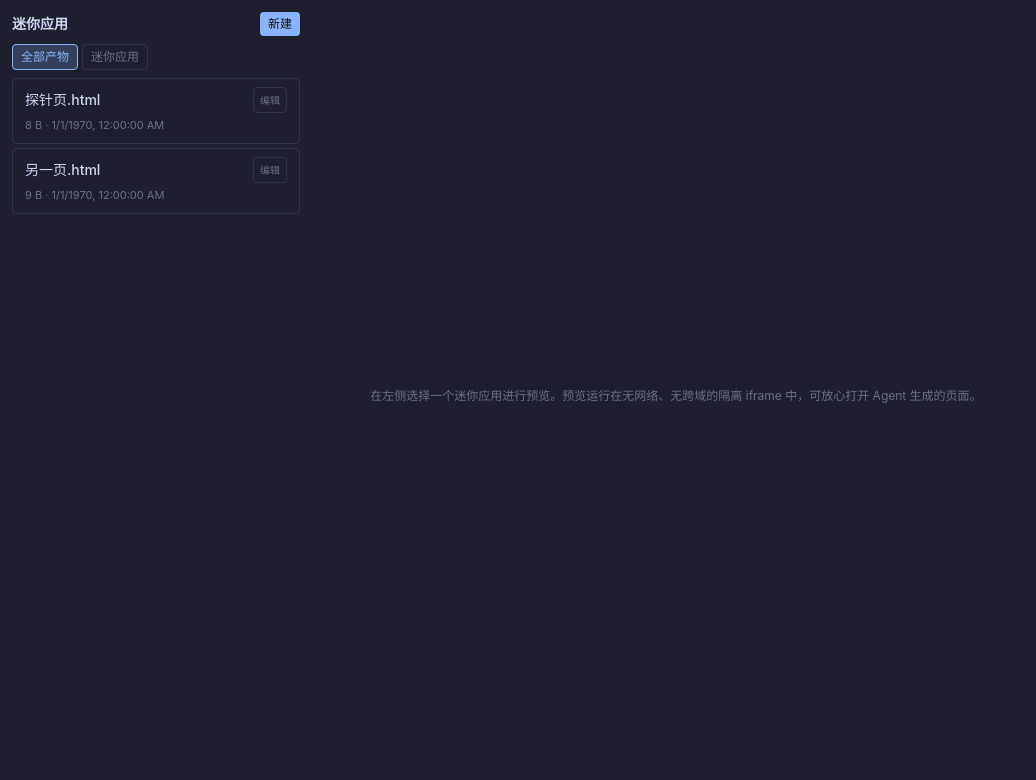
it: ① 沙箱预览那一发：三种到货要分得开 › 回 {ok:false} ⇒ 不崩（屏上仍有内容）、原因上屏、预览区回到空态
The width and height of the screenshot is (1036, 780).
What coordinates should you click on to do the following:
click the button "探针页.html"
I would click on:
 (135, 100)
Its box is x1=25 y1=90 x2=245 y2=110.
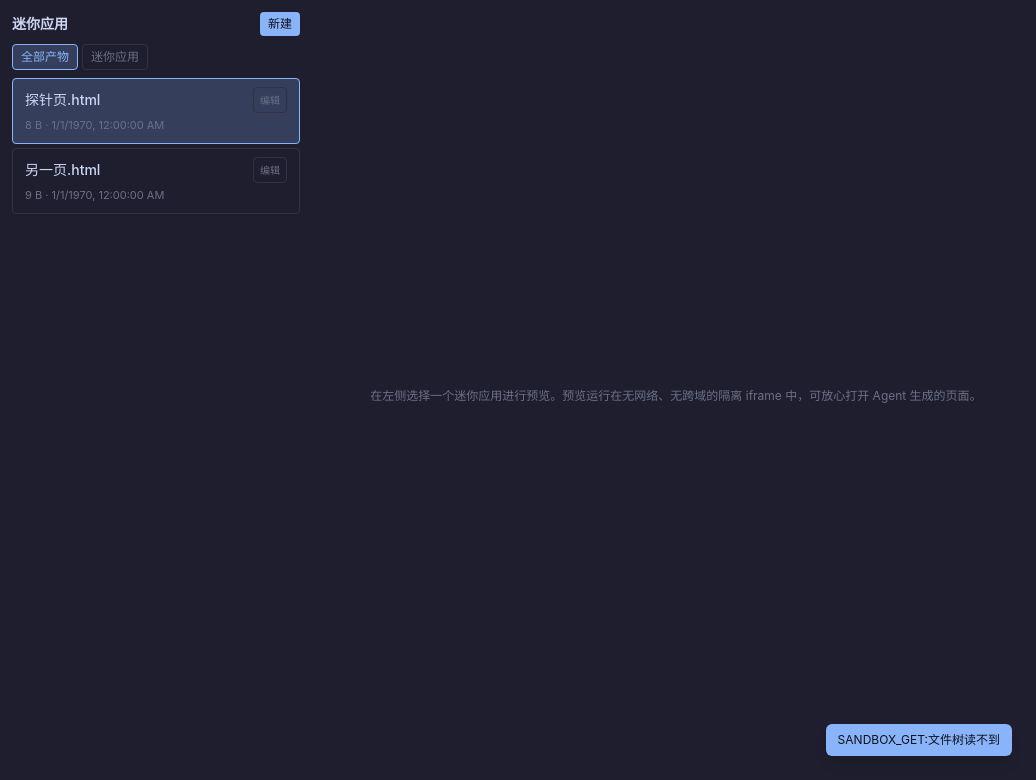
Expected: the button "另一页.html" is shown, x1=25 y1=160 x2=245 y2=180
Now the text "SANDBOX_GET:文件树读不到" is shown, box x1=826 y1=724 x2=1012 y2=756
